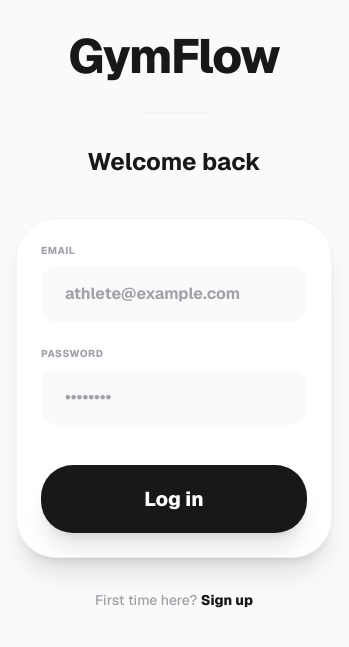
Scenario: AuthView › submits the entered credentials on sign-up and shows an in-app success message
Click the button "Sign up" at (227, 600), box [201,590,253,610]
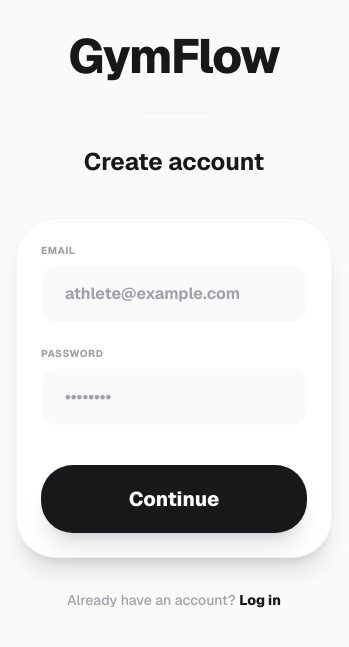
Type "new@example.com" into the field with placeholder "athlete@example.com" at (174, 294), box [41,266,307,322]
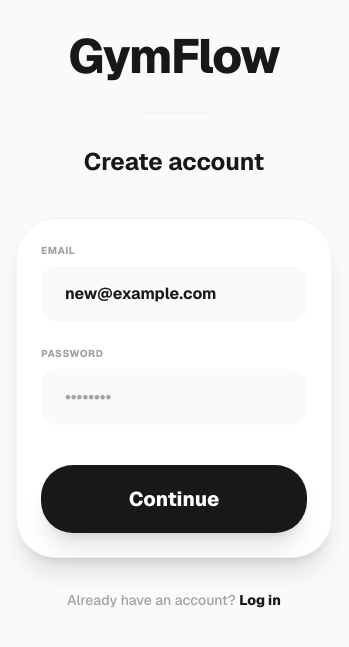
Type "secret1" into the password field with placeholder "••••••••" at (174, 397), box [41,369,307,425]
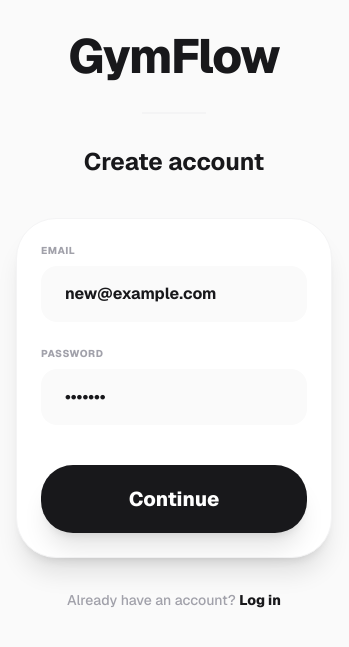
Click the button "Continue" at (174, 499), box [41,465,307,533]
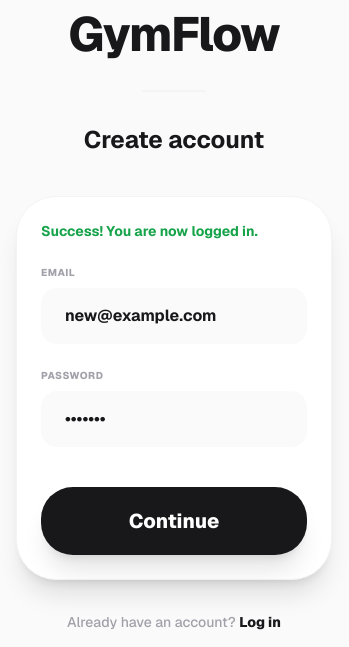
Expected: the text "Success! You are now logged in." is shown, [41,222,258,240]
